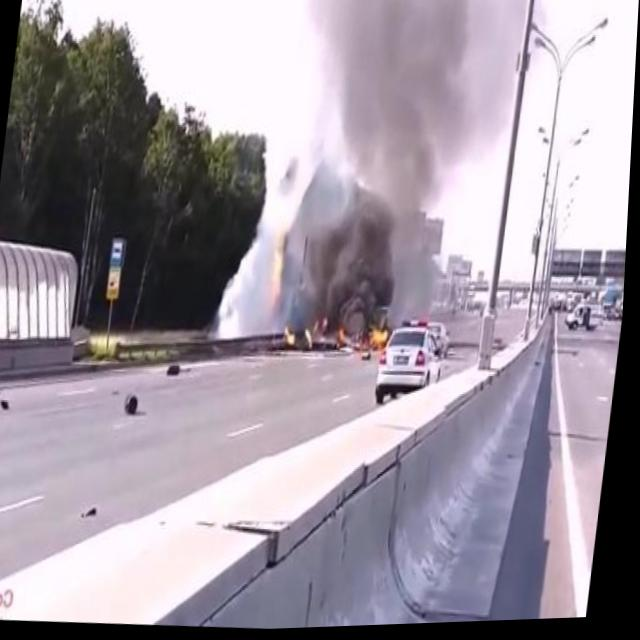fire: (339, 312, 400, 356), (283, 313, 330, 355), (268, 238, 289, 312)
